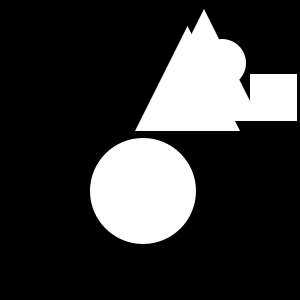circle: (250, 74, 297, 121)
rectangle: (90, 138, 196, 244), (198, 39, 246, 87)
triangle: (148, 9, 260, 121), (135, 26, 240, 131)
